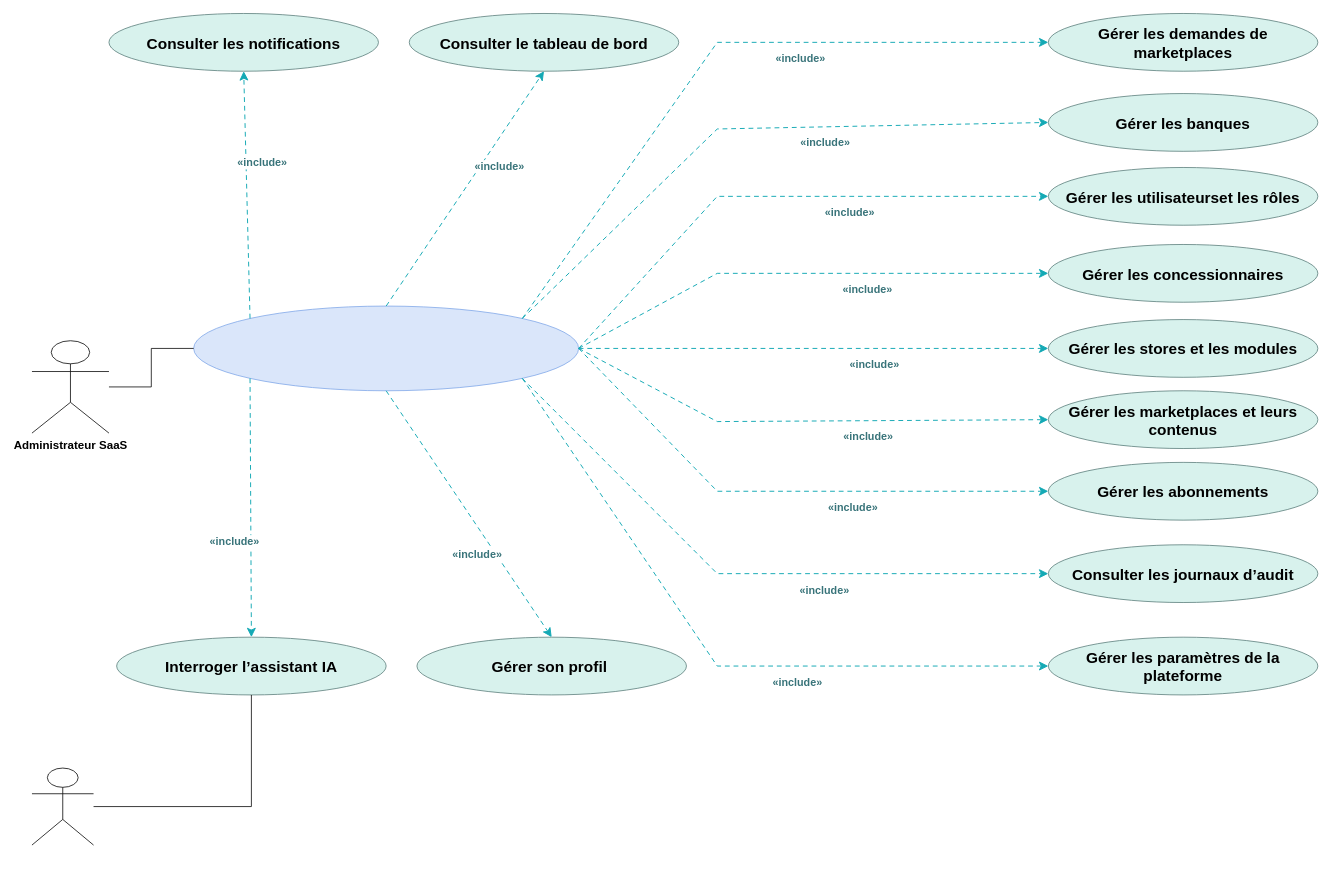
Image size: 1331x882. Some labels were removed from this diagram. The box of each missing label's shape, as (x1, y1, x2, y2) in pixels:
Administrer et superviser la plateforme SaaS: (193, 305, 579, 391)
Gemini: (31, 767, 94, 845)
